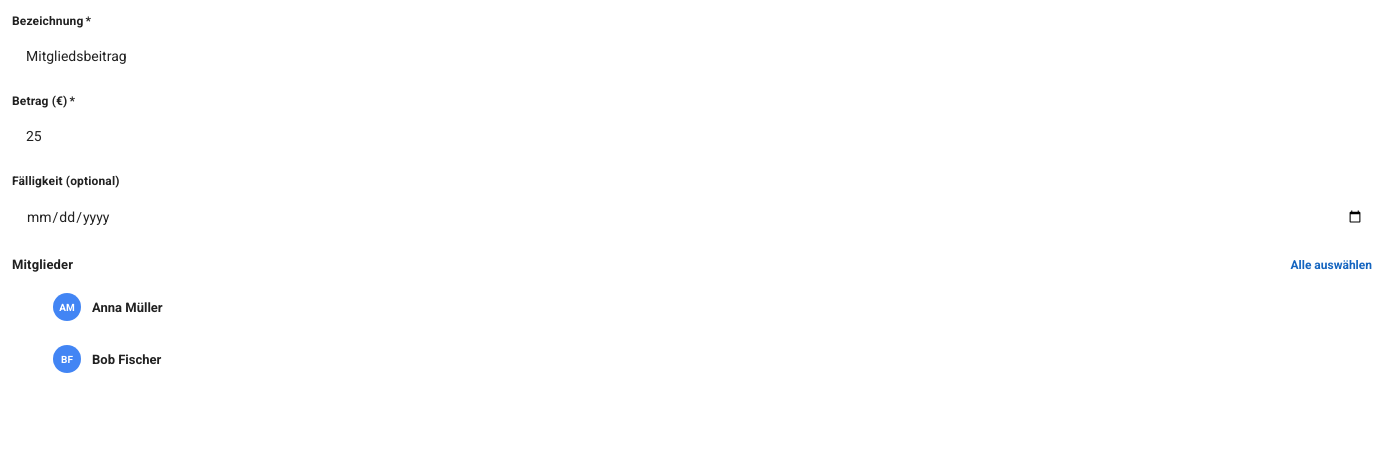
Test case: ContribCreateSheet › "select all" selects every member, and toggles to "deselect all"
Click the button "Alle auswählen".
click(1331, 265)  # box [1284,254,1378,276]
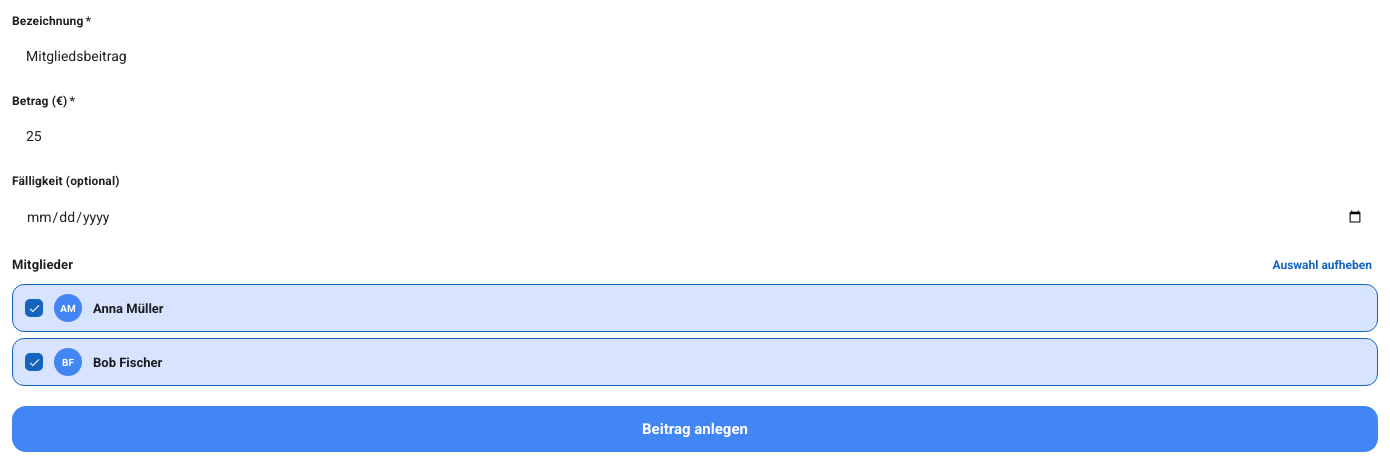
Check: the button "Beitrag anlegen" is enabled, box [12,406,1378,452]
Check: the button "Auswahl aufheben" is shown, box [1266,254,1378,276]
